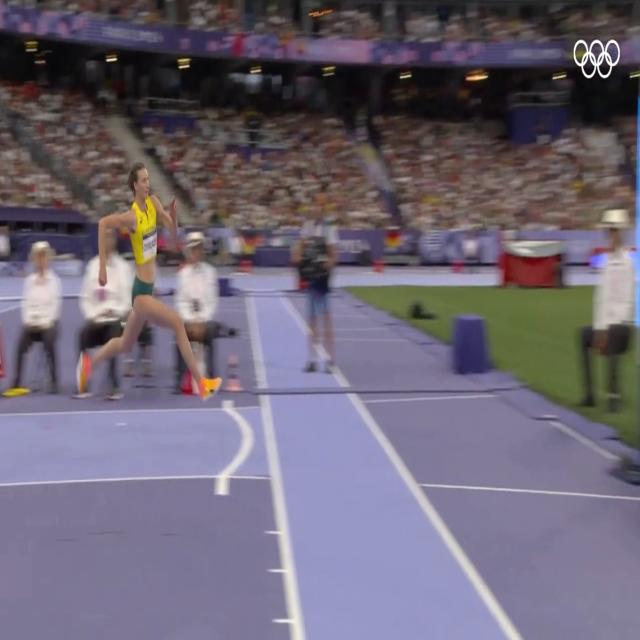run: (77, 165, 223, 398)
